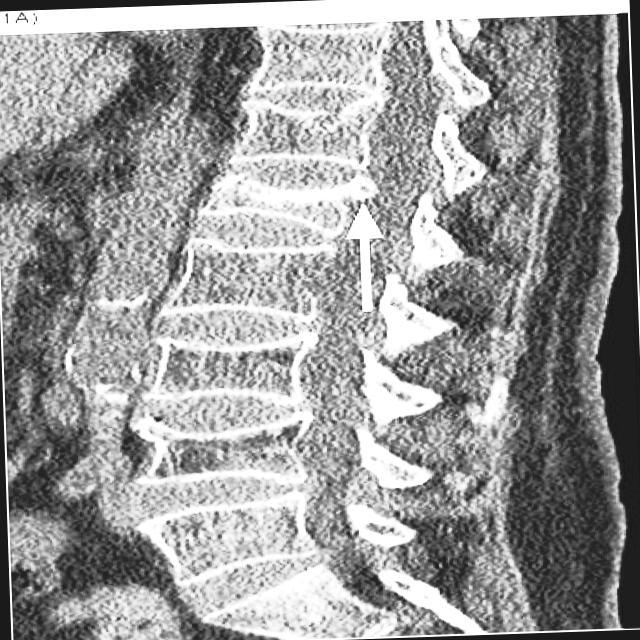Compression-Crush Fracutre: (211, 164, 380, 245)
